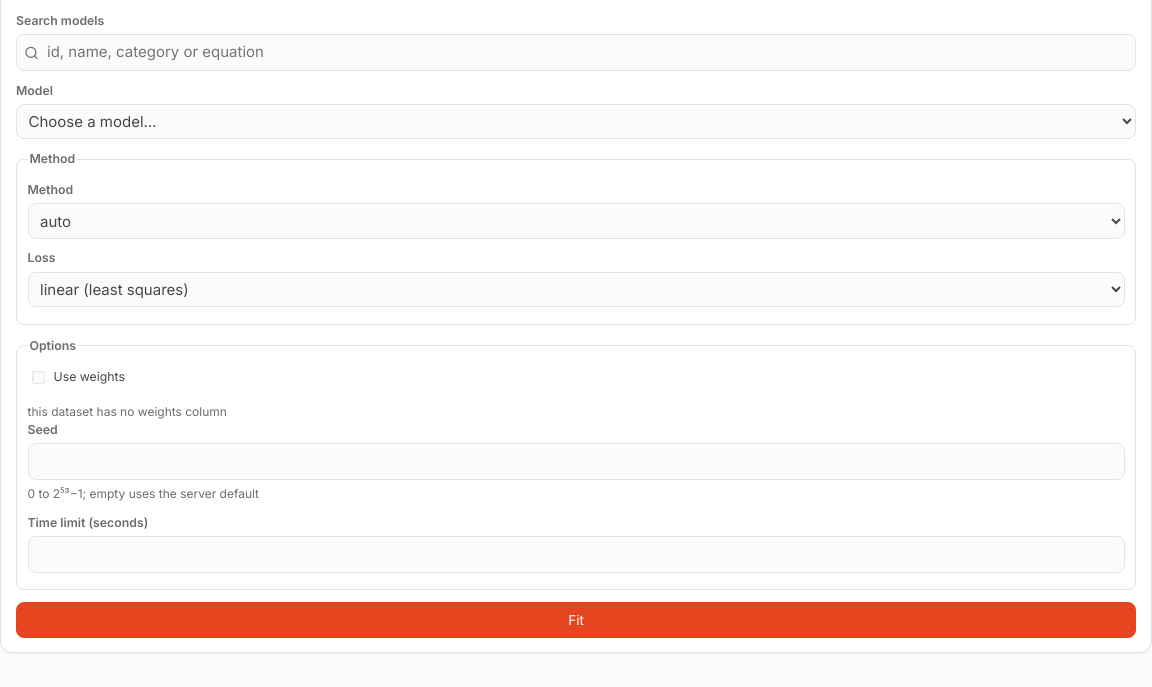
Test: FitPanel validation (mirrors the server contract) › requires a non-empty custom equation
Select "Custom equation…" in the dropdown labelled "Model" at (576, 122), box [16,104,1136,139]
(page scrolled)
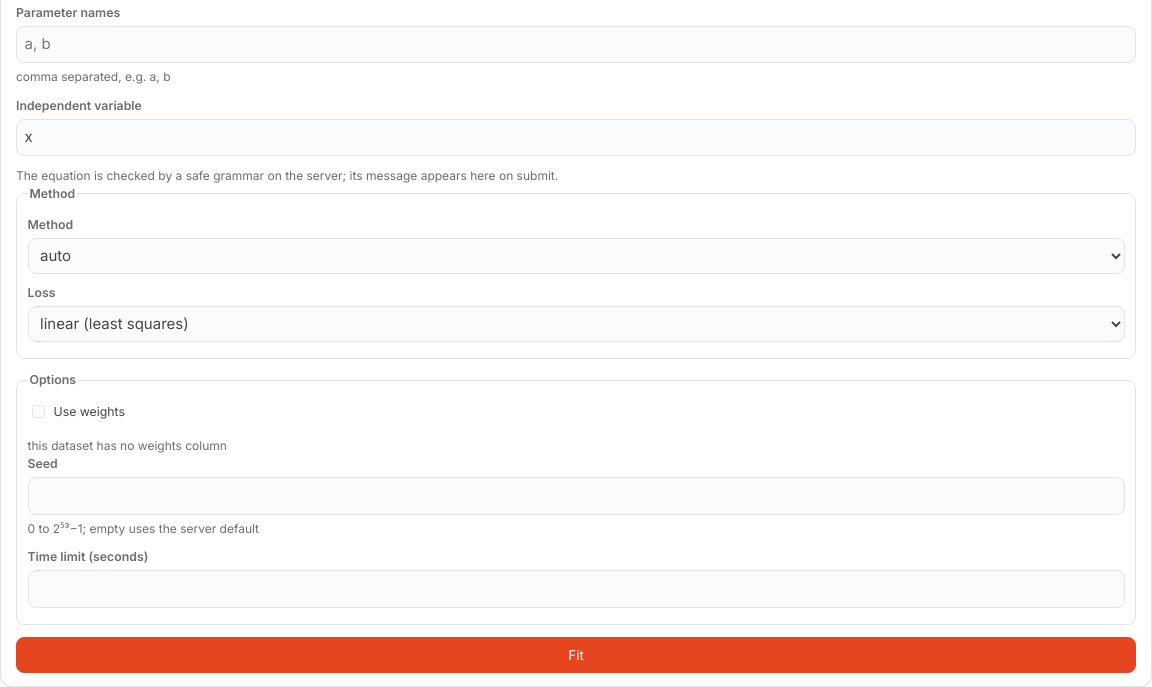
Click the button "Fit" at (576, 655), box [16,637,1136,673]
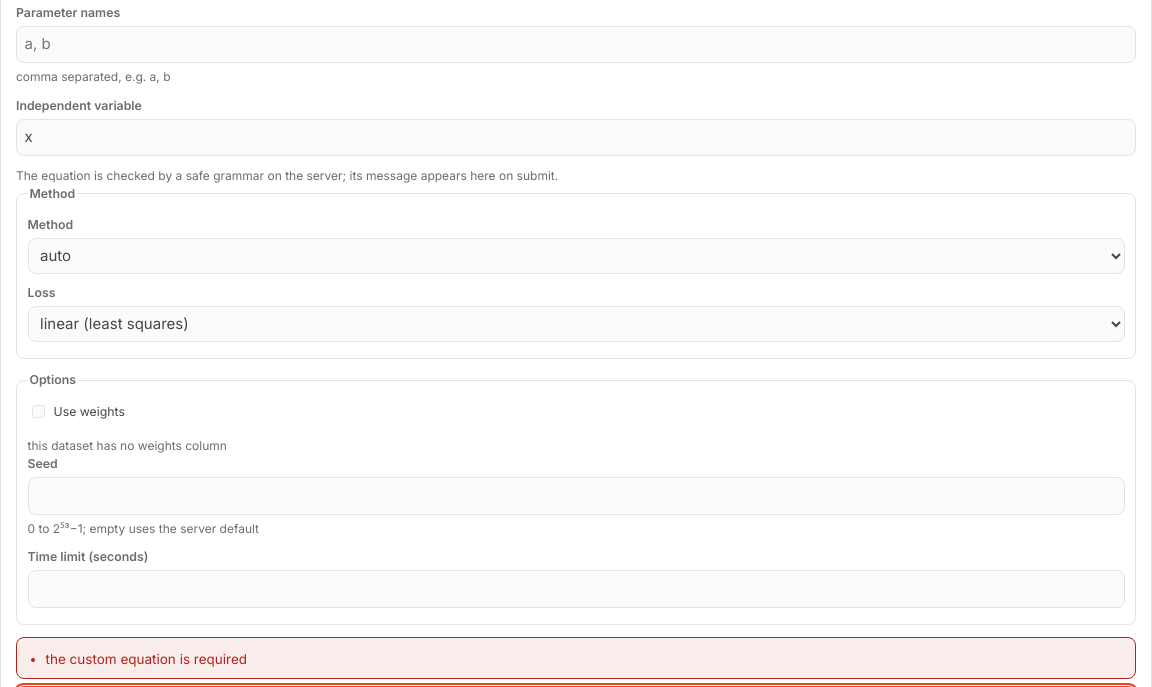
expect the message shows "equation": met, box [46,651,247,667]
